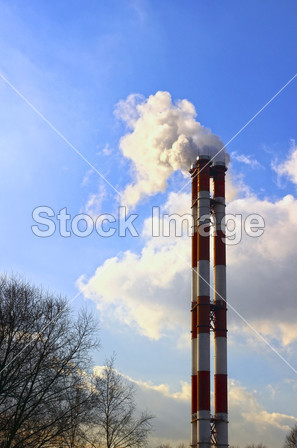dust: (91, 87, 232, 179)
